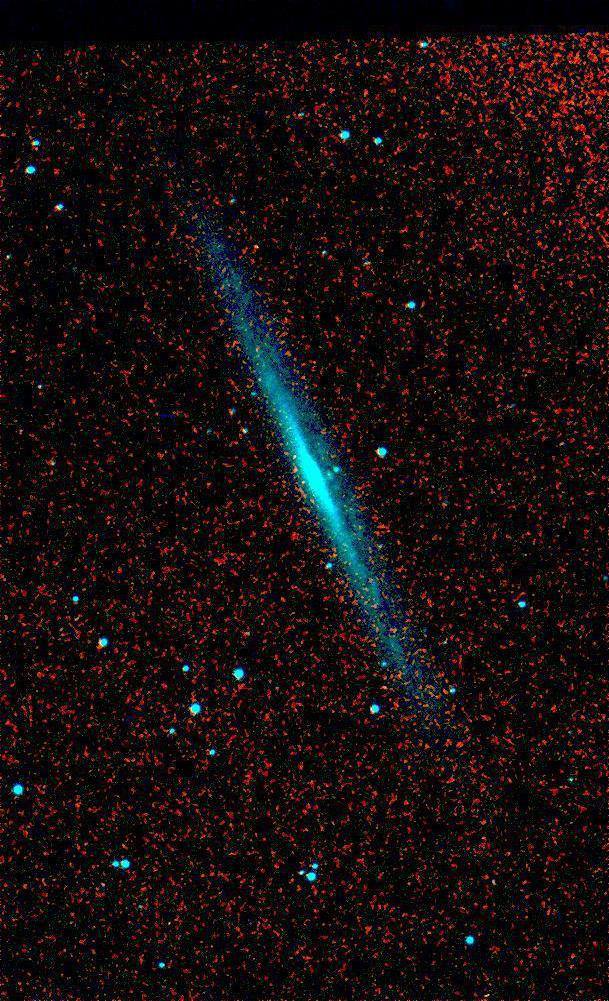star: (384, 616, 414, 646)
